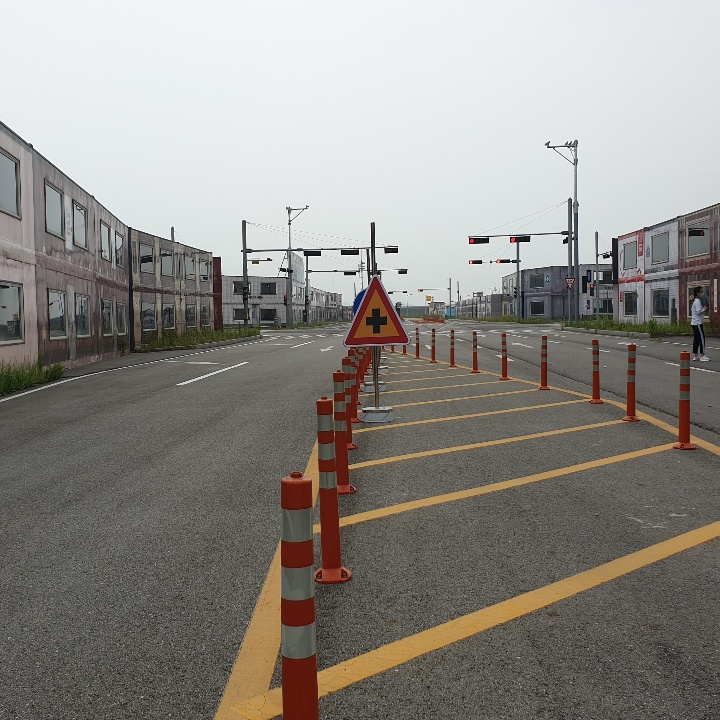inter: (360, 303, 391, 335)
